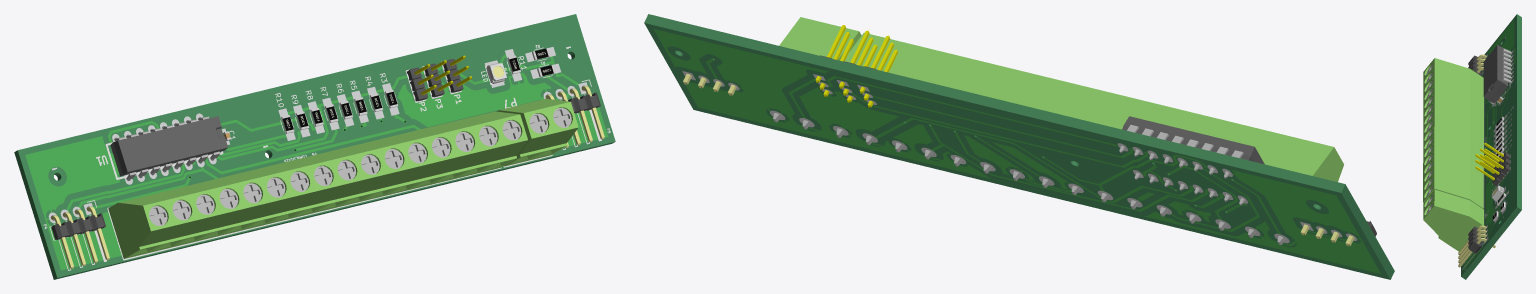
3 views of the same model, side by side, from view 1: azimuth 30°, elevation 25°; view 2: azimuth 150°, elevation 25°; view 3: azimuth 270°, elevation 25° (orthographic). The views are drawn at different scales.
Parts seen in each view (by area): view 1: Shape_IndexedFaceSet_164, Shape_IndexedFaceSet_165, Shape_IndexedFaceSet_016, Shape_IndexedFaceSet_170, Shape_IndexedFaceSet_166, Shape_IndexedFaceSet_119, Shape_IndexedFaceSet_153, Shape_IndexedFaceSet_135, Shape_IndexedFaceSet_123, Shape_IndexedFaceSet_139, Shape_IndexedFaceSet_121, Shape_IndexedFaceSet_141 (+11 smaller); view 2: Shape_IndexedFaceSet_164, Shape_IndexedFaceSet_167, Shape_IndexedFaceSet_168, Shape_IndexedFaceSet_016, Shape_IndexedFaceSet_119, Shape_IndexedFaceSet_155, Shape_IndexedFaceSet_145, Shape_IndexedFaceSet_149, Shape_IndexedFaceSet_147, Shape_IndexedFaceSet_139, Shape_IndexedFaceSet_143, Shape_IndexedFaceSet_137 (+10 smaller); view 3: Shape_IndexedFaceSet_164, Shape_IndexedFaceSet_155, Shape_IndexedFaceSet_165, Shape_IndexedFaceSet_016, Shape_IndexedFaceSet_133, Shape_IndexedFaceSet_139, Shape_IndexedFaceSet_131, Shape_IndexedFaceSet_135, Shape_IndexedFaceSet_153, Shape_IndexedFaceSet_127, Shape_IndexedFaceSet_123, Shape_IndexedFaceSet_125 (+18 smaller).
Boxes of the visible parts, x1,y1,x2,y2 form: Shape_IndexedFaceSet_164: (14, 14, 615, 279); Shape_IndexedFaceSet_165: (25, 54, 608, 270); Shape_IndexedFaceSet_016: (110, 116, 227, 176); Shape_IndexedFaceSet_170: (43, 45, 610, 270); Shape_IndexedFaceSet_166: (48, 47, 587, 223); Shape_IndexedFaceSet_119: (108, 197, 174, 258); Shape_IndexedFaceSet_153: (496, 104, 554, 166); Shape_IndexedFaceSet_135: (448, 117, 504, 178); Shape_IndexedFaceSet_123: (166, 185, 221, 247); Shape_IndexedFaceSet_139: (401, 128, 457, 190); Shape_IndexedFaceSet_121: (142, 191, 197, 252); Shape_IndexedFaceSet_141: (378, 134, 433, 195); Shape_IndexedFaceSet_164: (644, 14, 1394, 279); Shape_IndexedFaceSet_167: (653, 29, 1380, 273); Shape_IndexedFaceSet_168: (682, 71, 1357, 243); Shape_IndexedFaceSet_016: (1122, 116, 1264, 164); Shape_IndexedFaceSet_119: (1283, 140, 1343, 181); Shape_IndexedFaceSet_155: (779, 17, 829, 52); Shape_IndexedFaceSet_145: (1019, 75, 1069, 111); Shape_IndexedFaceSet_149: (1048, 83, 1098, 118); Shape_IndexedFaceSet_147: (1078, 90, 1127, 125); Shape_IndexedFaceSet_139: (931, 54, 981, 89); Shape_IndexedFaceSet_143: (989, 68, 1039, 104); Shape_IndexedFaceSet_137: (901, 47, 951, 82); Shape_IndexedFaceSet_164: (1461, 14, 1521, 279); Shape_IndexedFaceSet_155: (1423, 197, 1483, 251); Shape_IndexedFaceSet_165: (1463, 19, 1515, 270); Shape_IndexedFaceSet_016: (1483, 45, 1507, 103); Shape_IndexedFaceSet_133: (1423, 180, 1483, 208); Shape_IndexedFaceSet_139: (1423, 156, 1483, 183); Shape_IndexedFaceSet_131: (1423, 107, 1483, 134); Shape_IndexedFaceSet_135: (1423, 172, 1483, 199); Shape_IndexedFaceSet_153: (1423, 189, 1483, 217); Shape_IndexedFaceSet_127: (1423, 90, 1483, 118); Shape_IndexedFaceSet_123: (1423, 74, 1483, 101); Shape_IndexedFaceSet_125: (1423, 82, 1483, 110).
Bounding box in the file's own units: 119 × 25.66 × 22.4.
